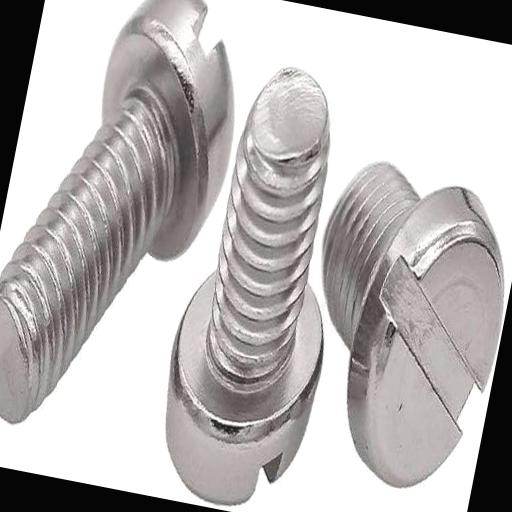Slotted: (326, 171, 512, 502)
